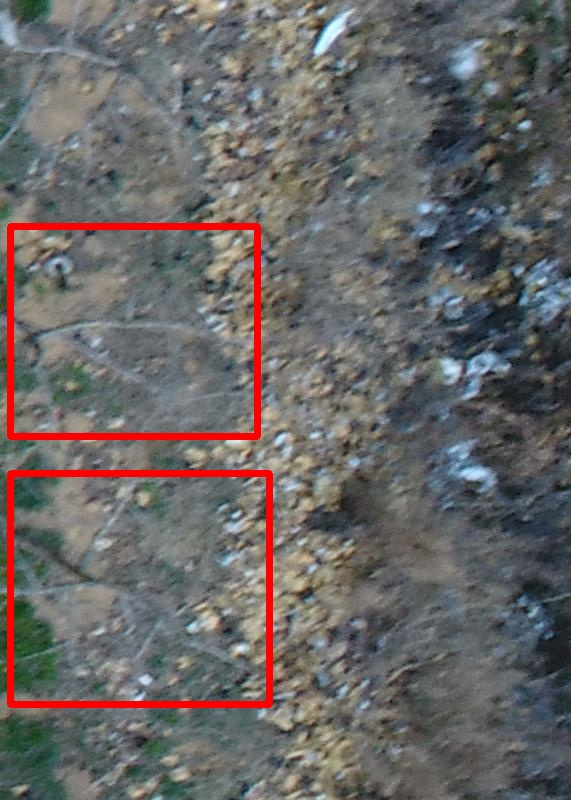apple: (10, 473, 269, 704), (10, 226, 257, 436)
